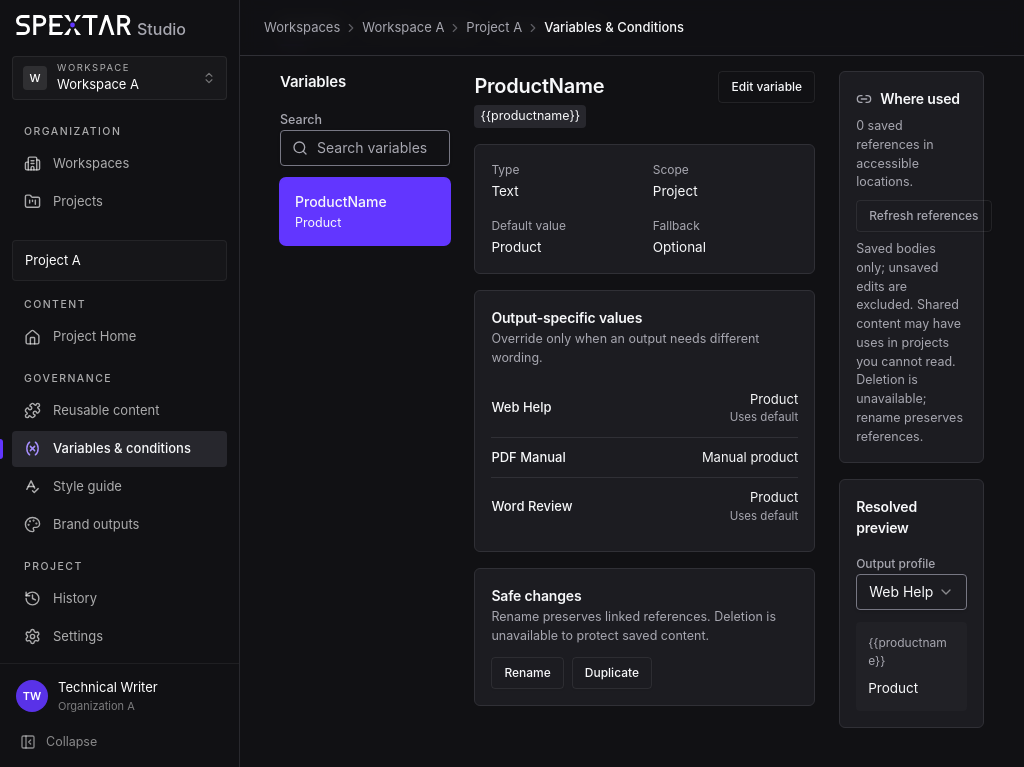
Test case: Variables & Conditions project route › resolves output overrides, missing defaults and required validation honestly, without claiming reference validation
(page scrolled)
Expected: the text with test id "text-preview-resolved" reads "Product", [868, 680, 918, 696]
Expected: the text with test id "text-output-value-web-help" reads "Product", [750, 391, 798, 407]
Click the dropdown named "Output profile".
click(912, 592)  # box [856, 574, 967, 610]
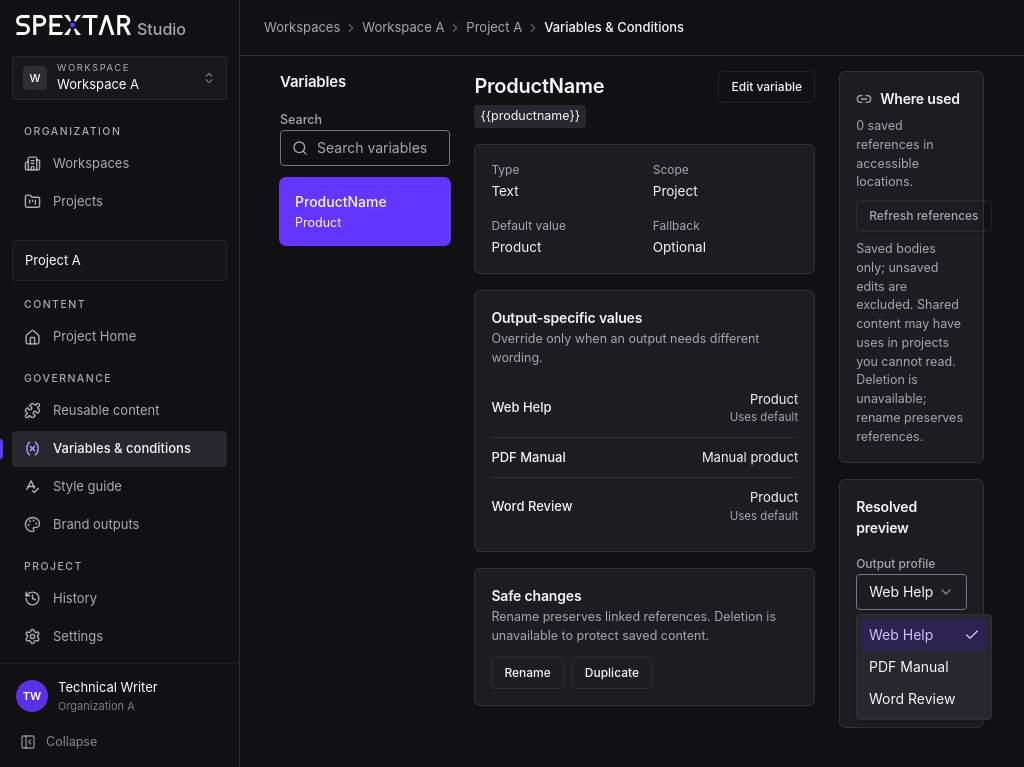
Click the option "PDF Manual".
click(909, 666)  # box [869, 658, 949, 675]
(page scrolled)
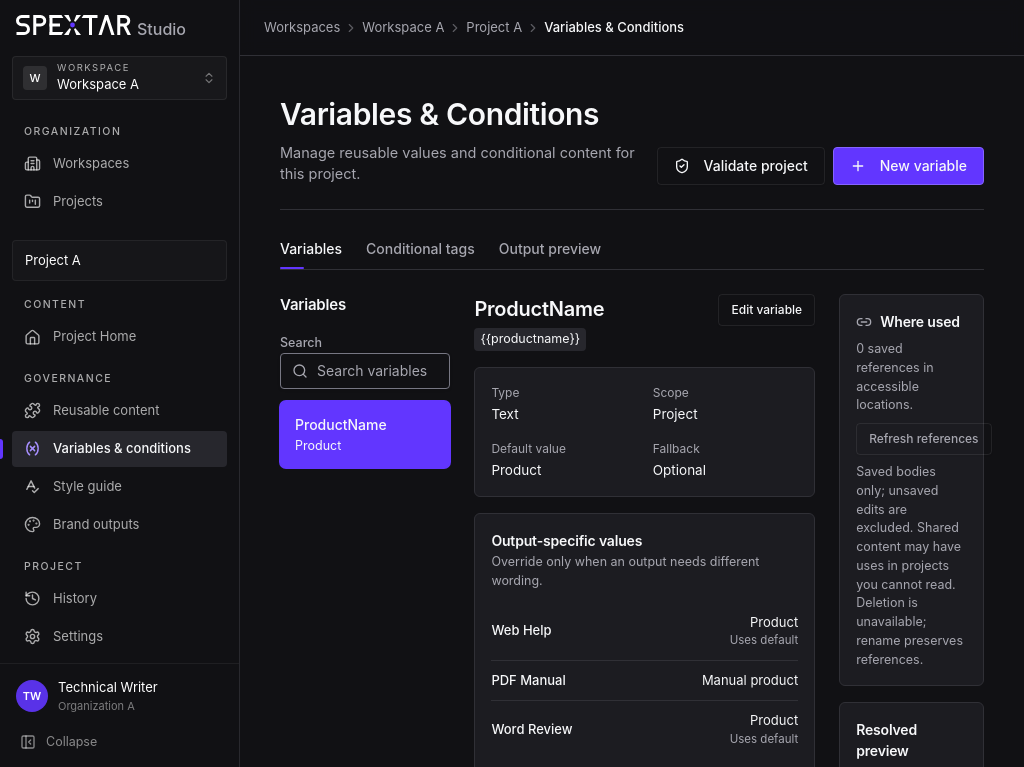
Click the button with test id "button-validate-project".
click(741, 166)  # box [656, 147, 825, 185]
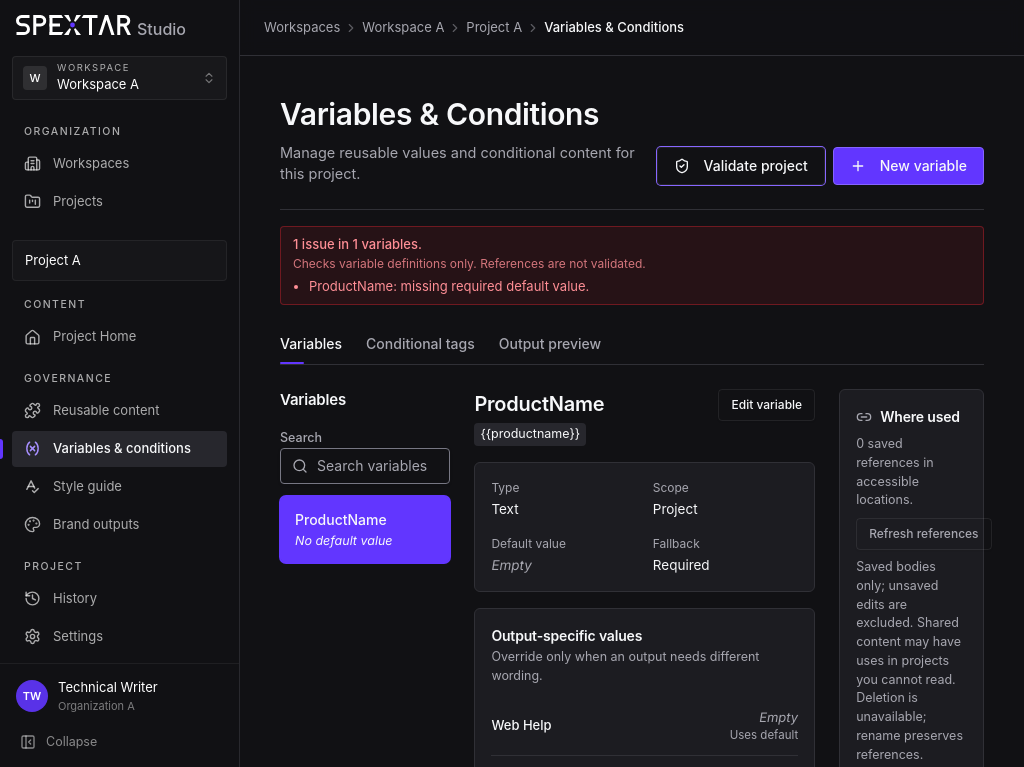
Expected: the message with test id "text-validation-summary" shows "1 issue in 1 variables.", [293, 236, 422, 252]
Expected: the list item "ProductName: missing required default value." is shown, [309, 278, 589, 294]
Expected: the text "Checks variable definitions only. References are not validated." is shown, [293, 256, 646, 270]
